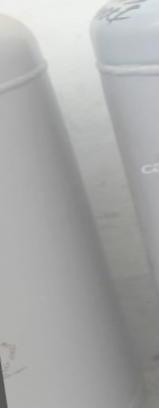cylinder: (0, 1, 159, 408)
